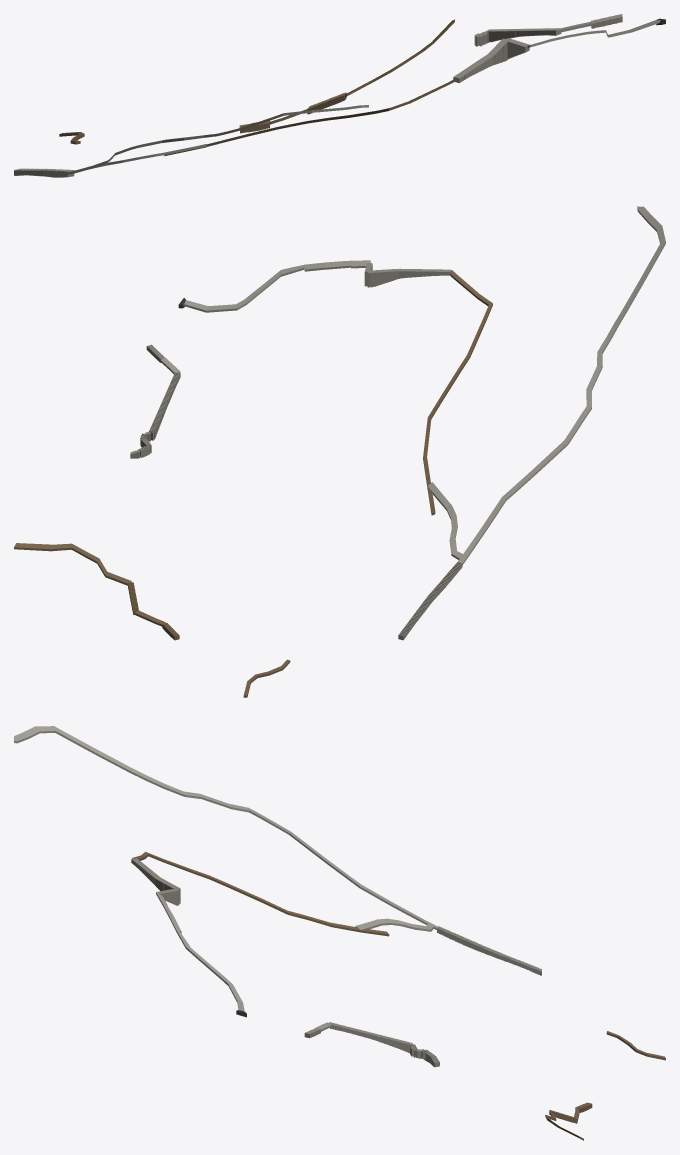
The picture shows the model from 3 angles, top to bottom: view 1: azimuth 30°, elevation 25°; view 2: azimuth 150°, elevation 25°; view 3: azimuth 270°, elevation 25°; orthographic projection. The views are drawn at different scales.
Size of the model in its own units: 149 by 95.32 by 199.
